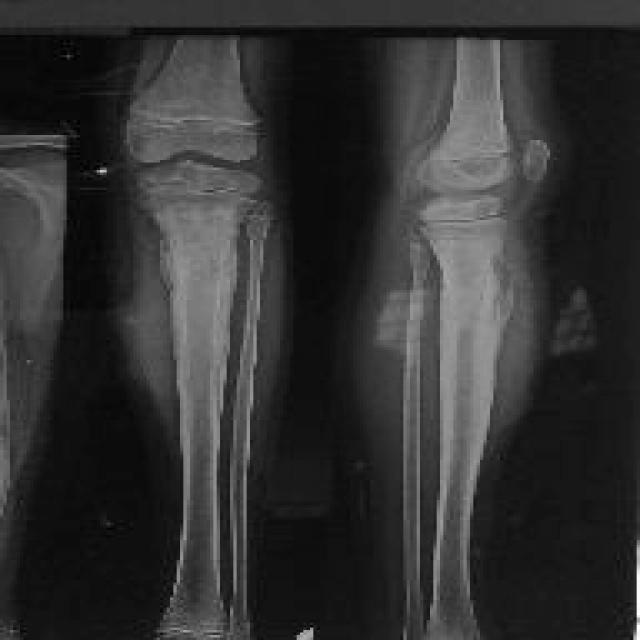bone-cancer: (456, 245, 513, 346), (158, 230, 207, 302)
